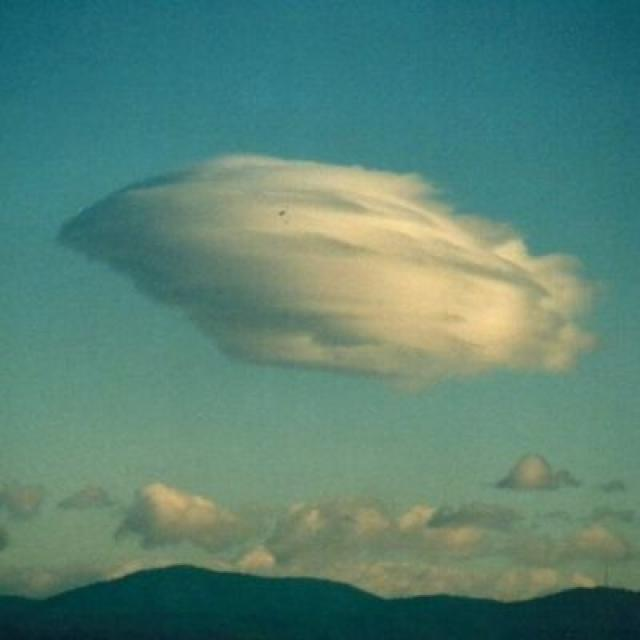Ac: (42, 141, 614, 409)
